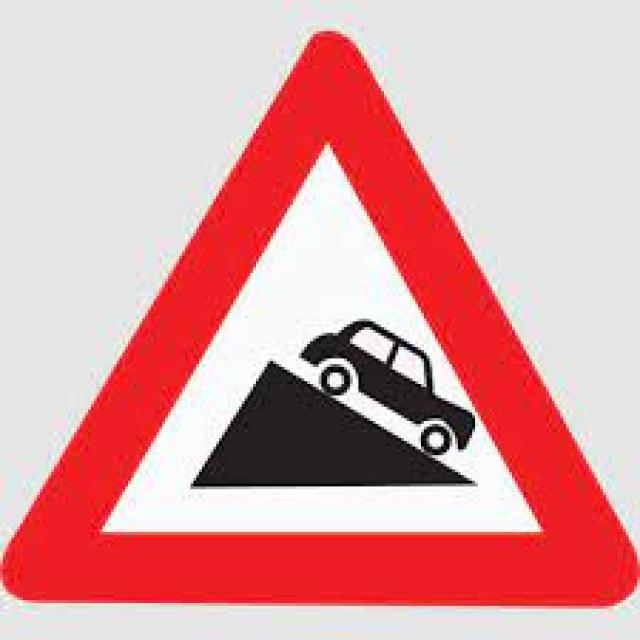steep descent: (49, 36, 616, 608)
